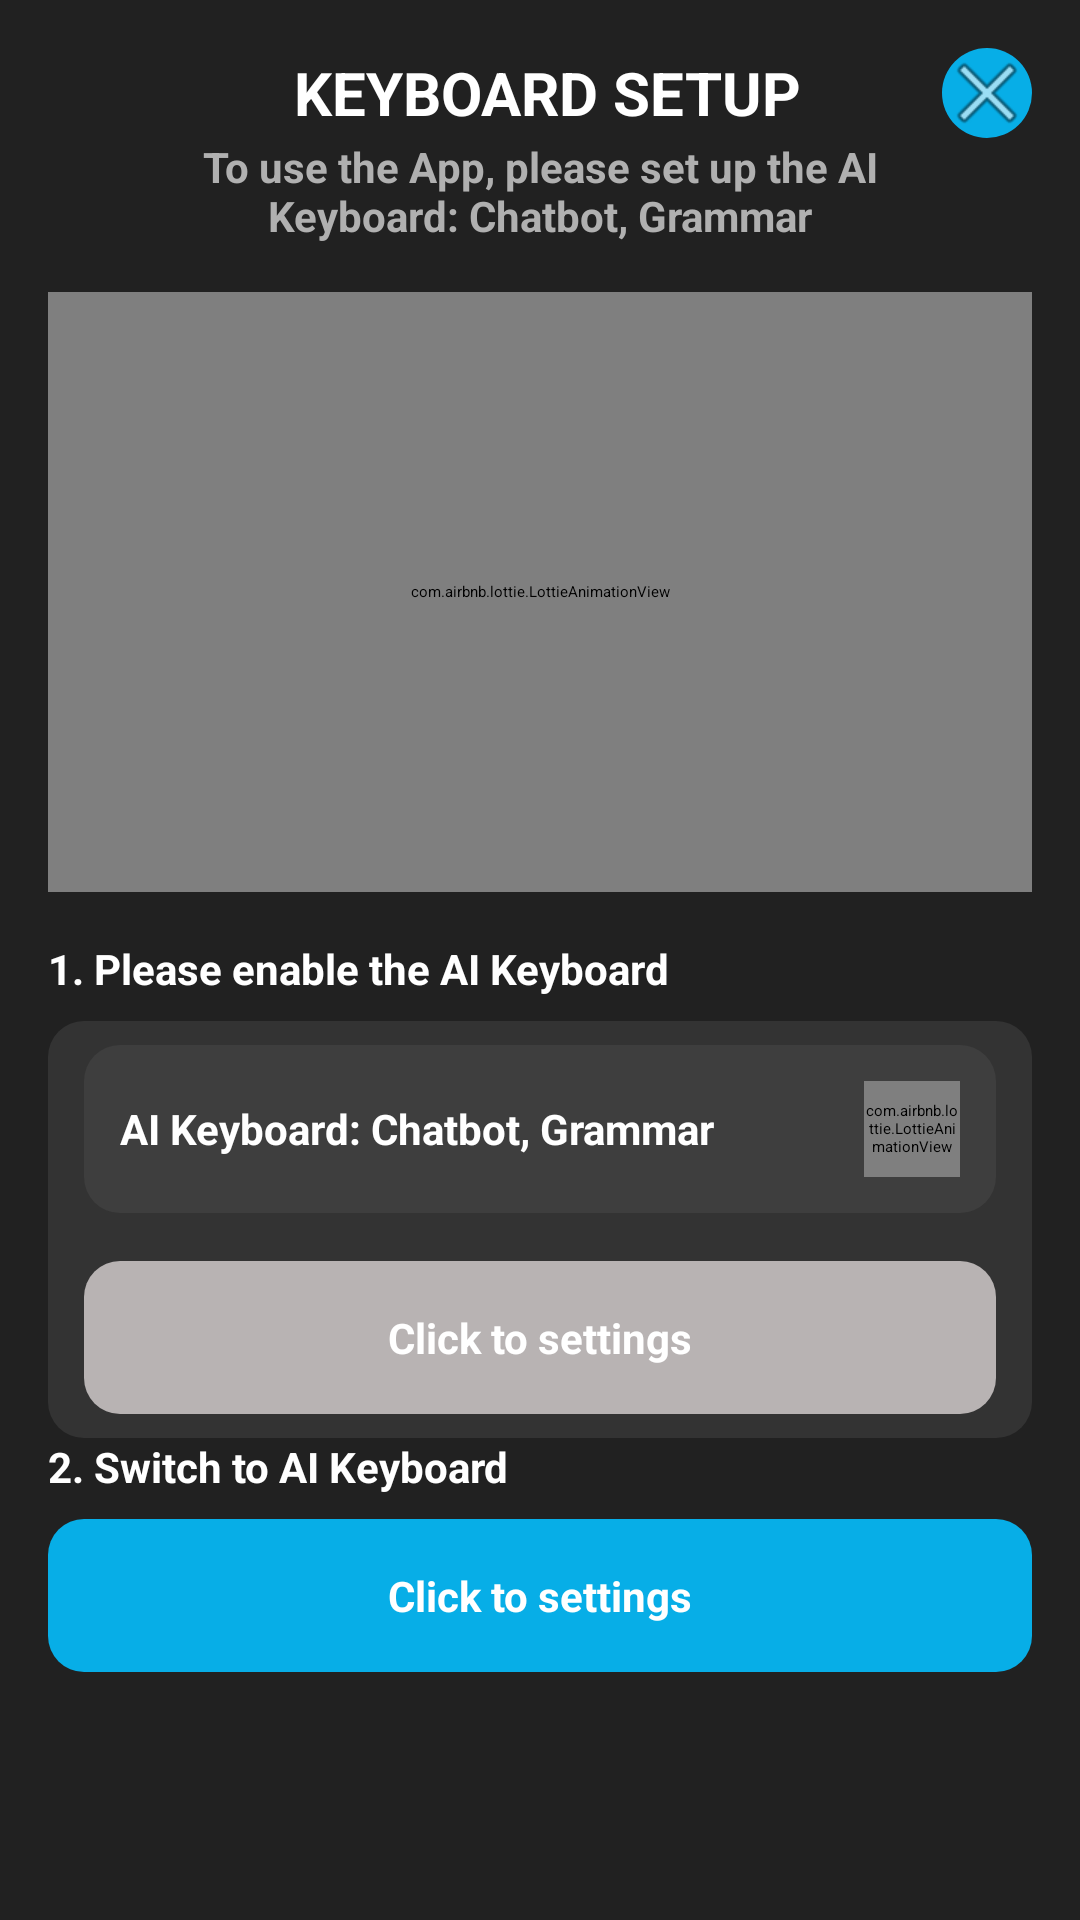

Screen size 1080w x 1920h. Icon name, then its center in pixels as [x,y]:
close clear cancel: [987,93]
